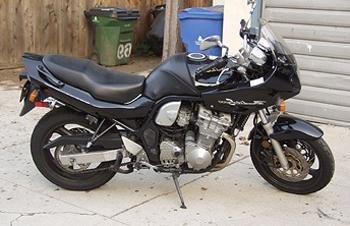motorcycle: (12, 1, 350, 214)
